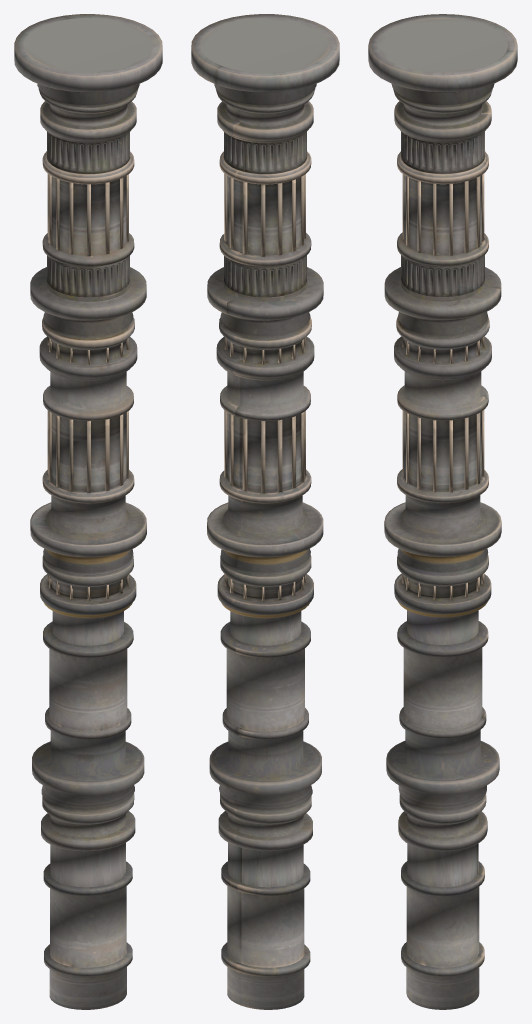
3 views of the same model, side by side, from view 1: azimuth 30°, elevation 25°; view 2: azimuth 150°, elevation 25°; view 3: azimuth 270°, elevation 25° (orthographic).
Parts seen in each view (by area): view 1: 柱子; view 2: 柱子; view 3: 柱子.
Boxes of the visible parts, x1=… form: 柱子: x1=14, y1=14, x2=162, y2=1009; 柱子: x1=191, y1=14, x2=339, y2=1009; 柱子: x1=368, y1=14, x2=517, y2=1009.
Bounding box in the file's own units: 2619 × 18469 × 2636.
